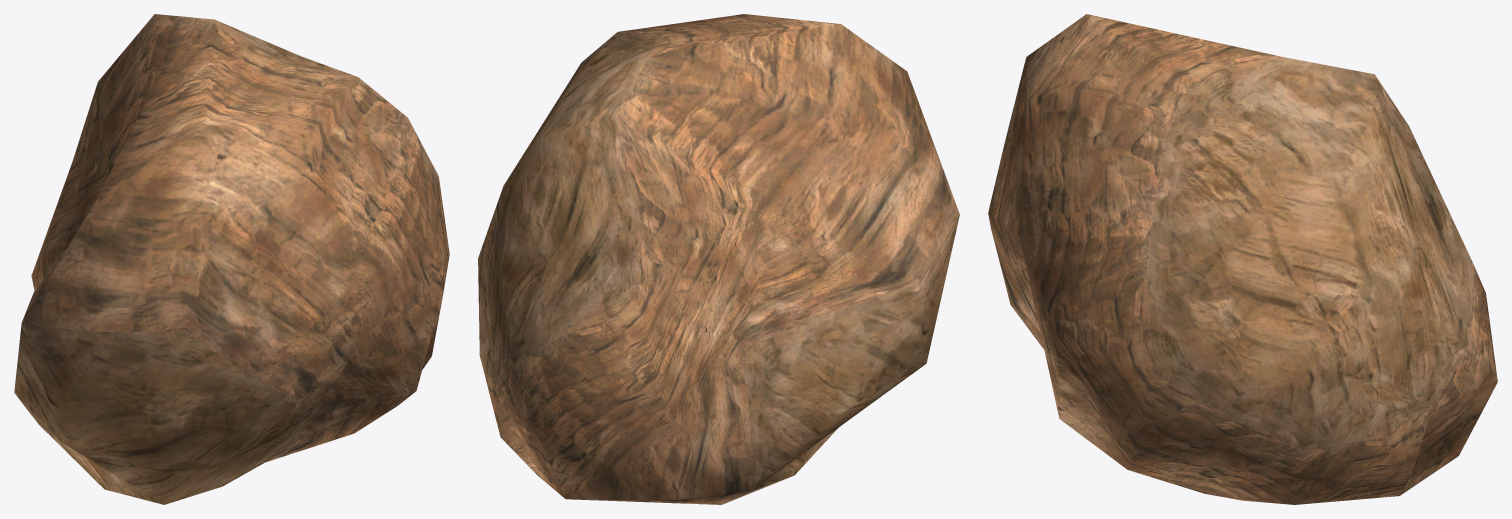
Rendered from rock_tatt_bensmesa_boulder_a2_l1.fbx.
The picture shows the model from 3 angles, left to right: view 1: azimuth 30°, elevation 25°; view 2: azimuth 150°, elevation 25°; view 3: azimuth 270°, elevation 25°; orthographic projection. The views are drawn at different scales.
Visible parts, largest first — view 1: mesh_node; view 2: mesh_node; view 3: mesh_node.
Boxes of the visible parts, bbox=[...] form: mesh_node: bbox=[14, 14, 449, 504]; mesh_node: bbox=[478, 14, 959, 504]; mesh_node: bbox=[988, 14, 1497, 504].
Size of the model in its own units: 3.14 by 3.21 by 3.31.
